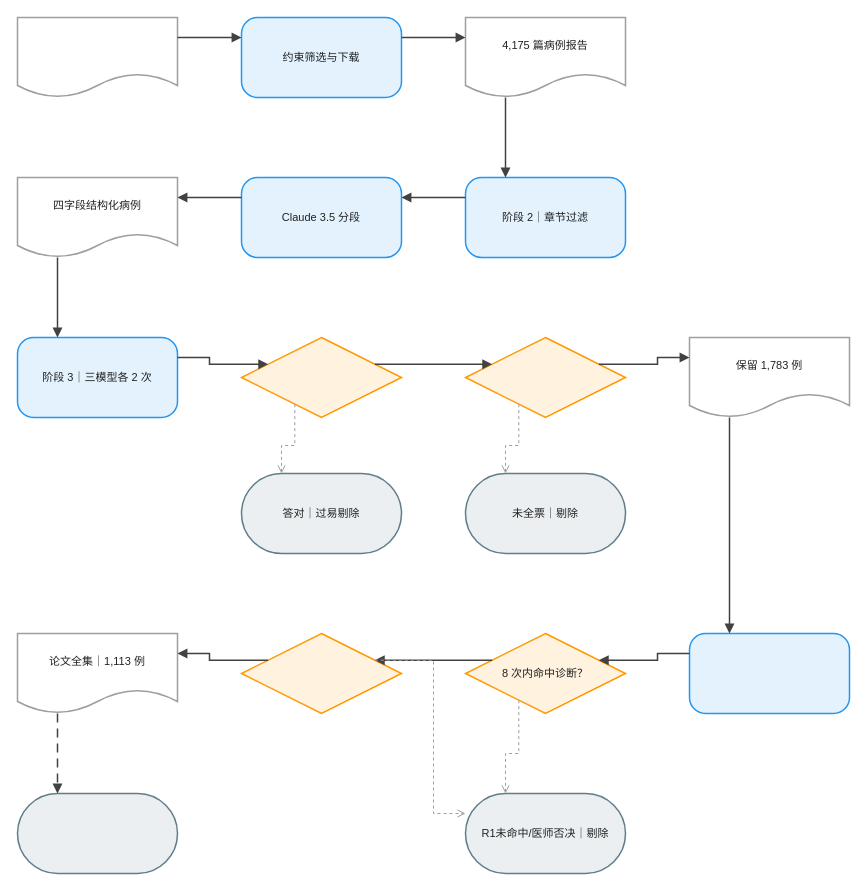
This 868x892 diagram has some shape labels left out. Each missing label, with the box of its shape:
AI 是否全票判合理？: (464, 336, 626, 418)
任一尝试答对？: (240, 336, 402, 418)
公开测试集｜915 例: (16, 792, 178, 874)
医师确认完整且明确？: (240, 632, 402, 714)
阶段 1｜10 本顶级期刊: (16, 16, 178, 98)
阶段 4｜R1 × 8: (688, 632, 850, 714)
